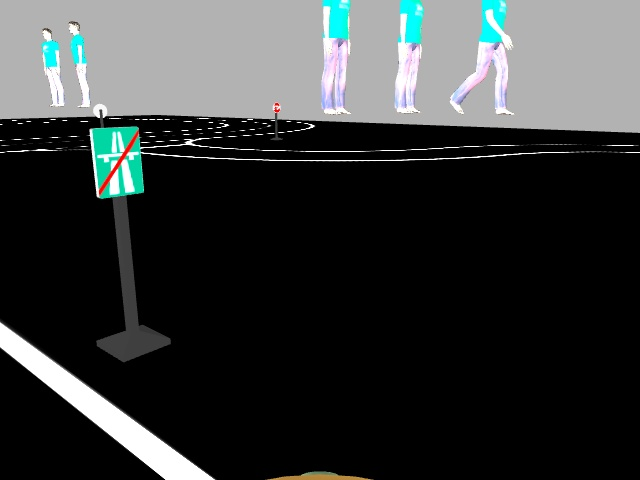HighwayExit: (88, 127, 144, 197)
